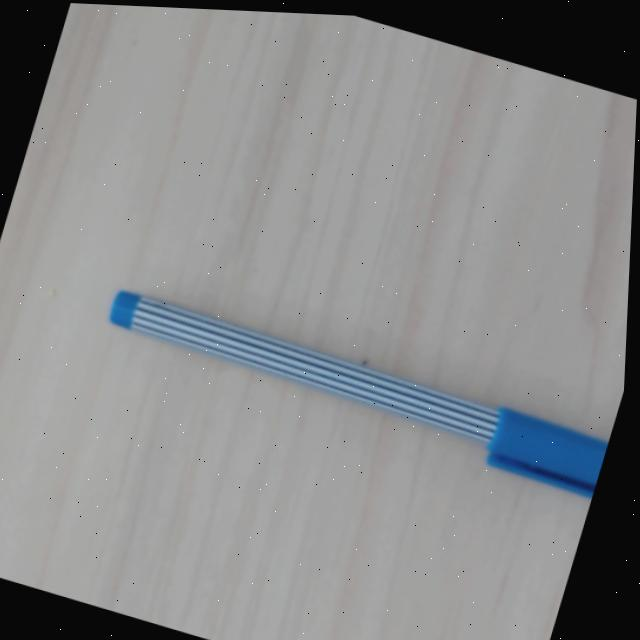Pulpen-Garis-Biru: (102, 274, 610, 500)
